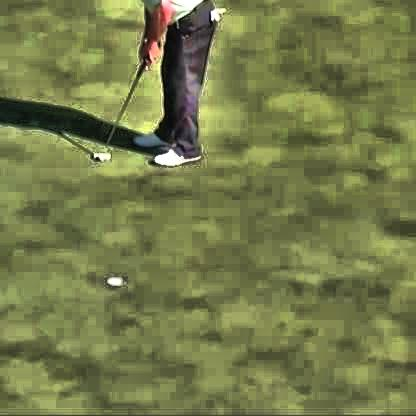golfball: (94, 153, 104, 160)
